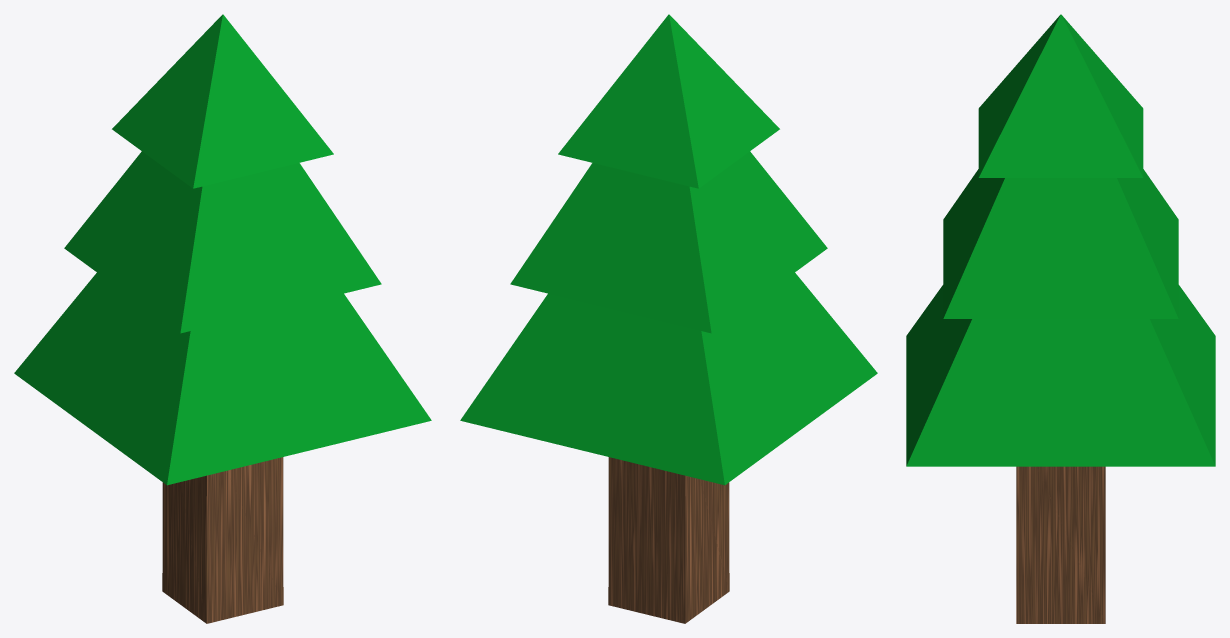
File: tree.gltf
3 views of the same model, side by side, from view 1: azimuth 30°, elevation 25°; view 2: azimuth 150°, elevation 25°; view 3: azimuth 270°, elevation 25° (orthographic).
Parts seen in each view (by area): view 1: Leaves, Trunk; view 2: Leaves, Trunk; view 3: Leaves, Trunk.
Boxes of the visible parts, x1,y1,x2,y2 form: Leaves: [14, 14, 431, 485]; Trunk: [162, 457, 283, 623]; Leaves: [460, 14, 877, 485]; Trunk: [608, 457, 729, 623]; Leaves: [906, 14, 1215, 466]; Trunk: [1016, 466, 1105, 623].
Size of the model in its own units: 3.39 by 7.14 by 3.39.
2 materials, 1 textured.
